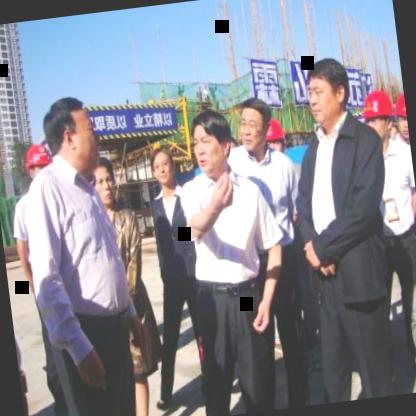head: (40, 93, 101, 175), (300, 51, 354, 130), (186, 107, 235, 176), (232, 96, 274, 154), (85, 155, 120, 210), (146, 144, 180, 192)
helmet: (358, 86, 399, 144), (258, 113, 290, 167), (20, 141, 52, 185), (390, 92, 409, 142)
